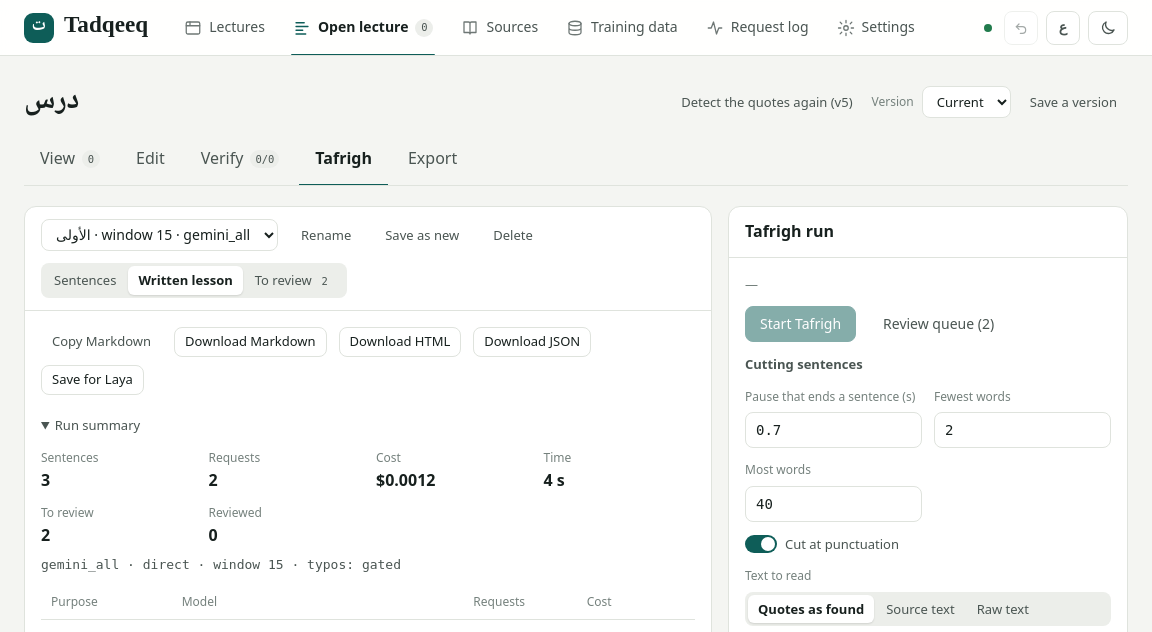
Test: save as new copies the run and the copy is the one open; the picker lists both (F-121)
The image size is (1152, 632).
Click the button with test id "tfg-clone". click: (422, 235)
box: [374,220,470,250]
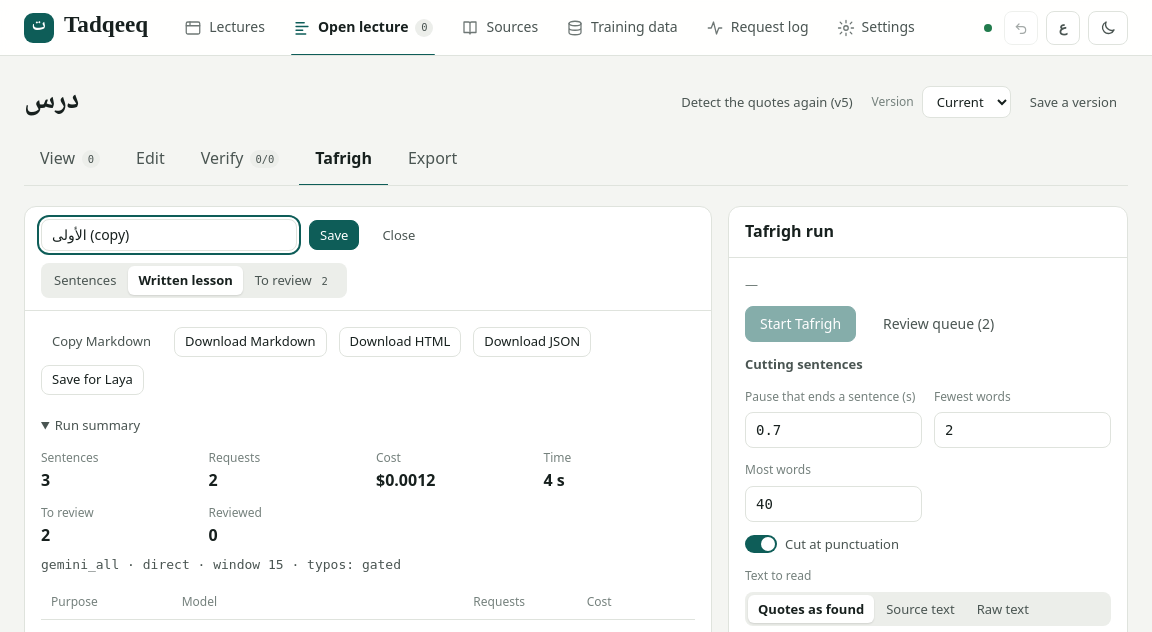
Replace the text in the field with test id "tfg-run-name" with "نسخة". click: (169, 235)
box: [41,219,297,251]
Then press Enter
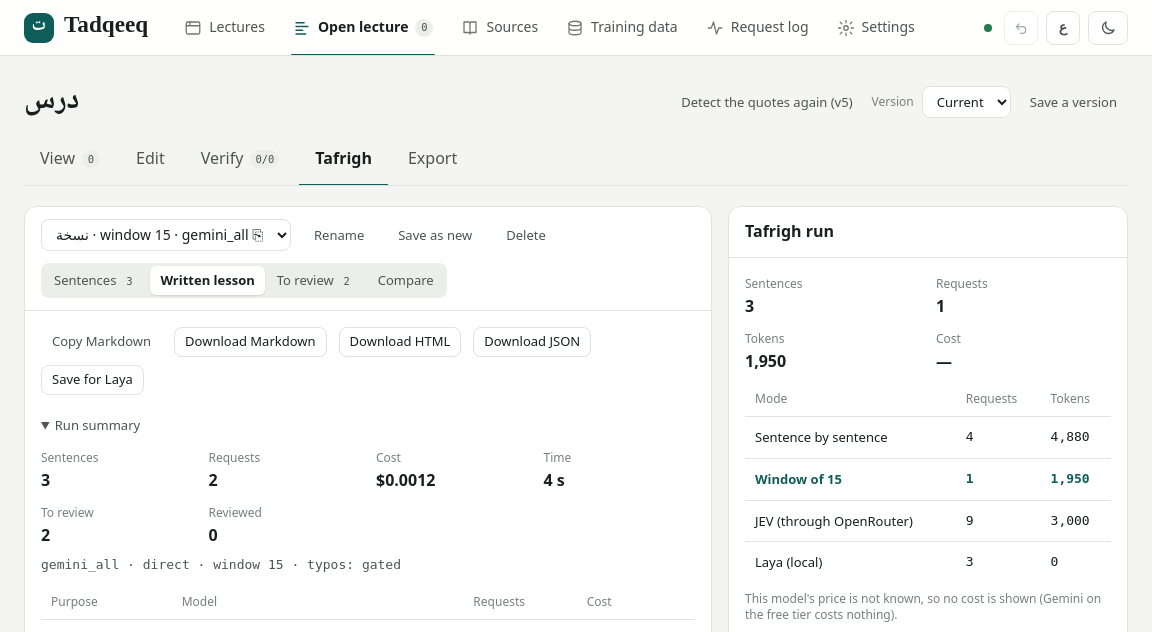
Now the dropdown with test id "tfg-run-picker" shows "نسخة · window 15 · gemini_all ⎘", box [41,219,291,251]
